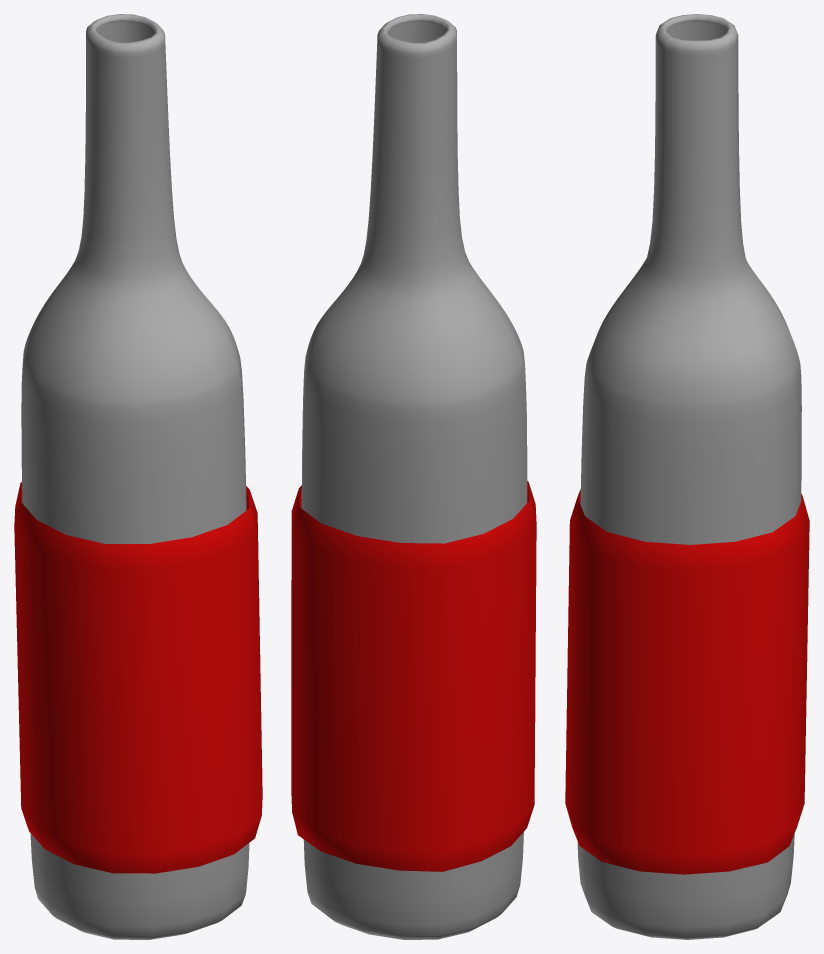
Rendered from bottle_v2.fbx.
The picture shows the model from 3 angles, left to right: view 1: azimuth 30°, elevation 25°; view 2: azimuth 150°, elevation 25°; view 3: azimuth 270°, elevation 25°; orthographic projection.
Visible parts, largest first — view 1: bottV1_2; view 2: bottV1_2; view 3: bottV1_2.
Boxes of the visible parts, bbox=[...] form: bottV1_2: bbox=[14, 14, 262, 939]; bottV1_2: bbox=[291, 14, 536, 939]; bottV1_2: bbox=[565, 14, 809, 939].
Size of the model in its own units: 5.91 by 23.5 by 5.91.
